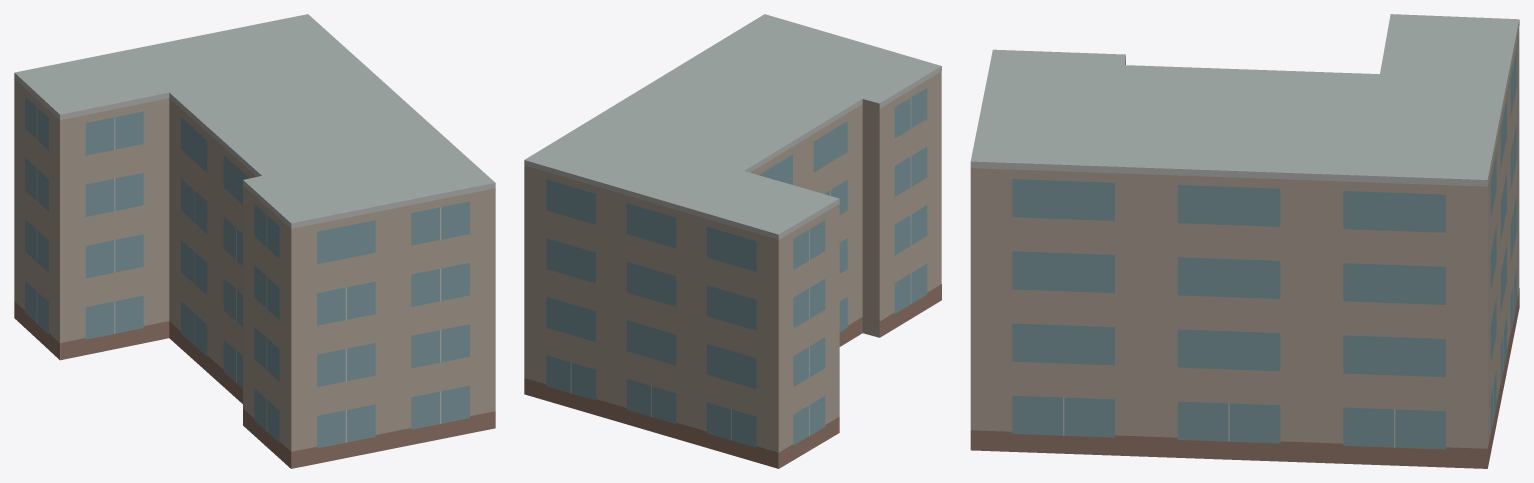
The model's file is survey-upis-32716598.glb.
The picture shows the model from 3 angles, left to right: view 1: azimuth 30°, elevation 25°; view 2: azimuth 150°, elevation 25°; view 3: azimuth 270°, elevation 25°; orthographic projection. The views are drawn at different scales.
Visible parts, largest first — view 1: survey-upis-32716598.tmp; view 2: survey-upis-32716598.tmp; view 3: survey-upis-32716598.tmp.
Part boxes in pixels (left/top/right/bottom): survey-upis-32716598.tmp: left=14, top=14, right=495, bottom=468; survey-upis-32716598.tmp: left=524, top=14, right=941, bottom=468; survey-upis-32716598.tmp: left=970, top=14, right=1519, bottom=468.
Bounding box in the file's own units: 13.39 × 10.85 × 18.7.
